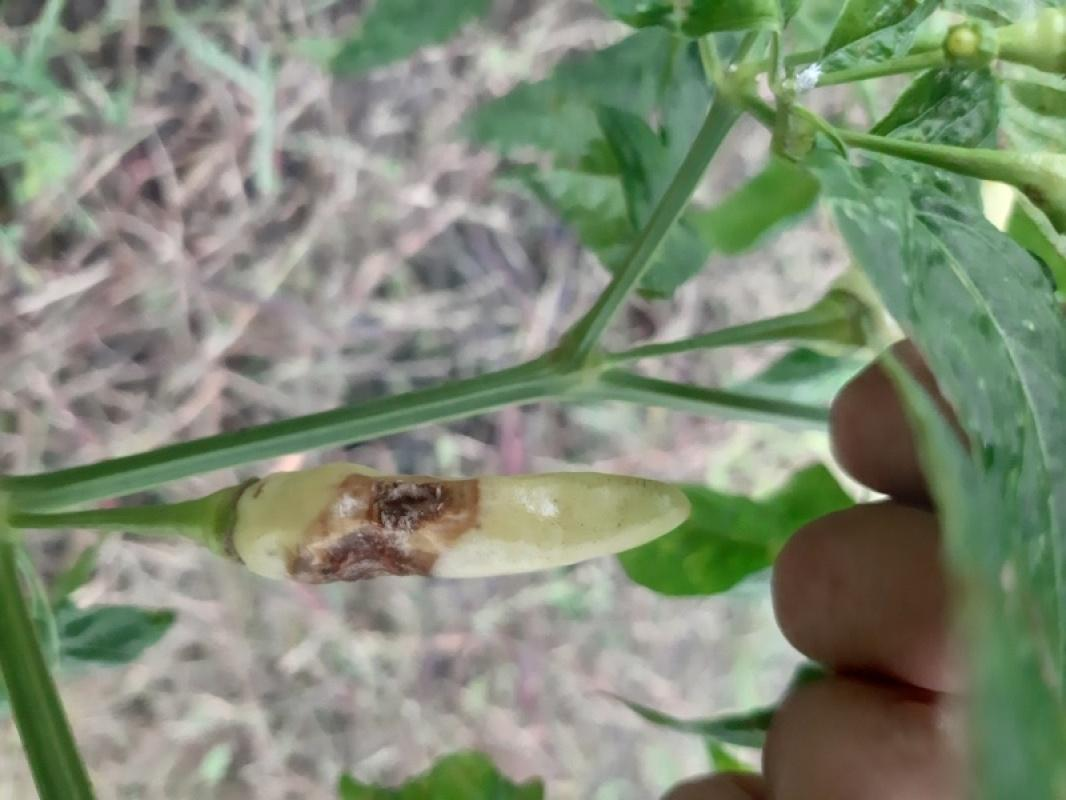antraknosa: (219, 459, 690, 588)
